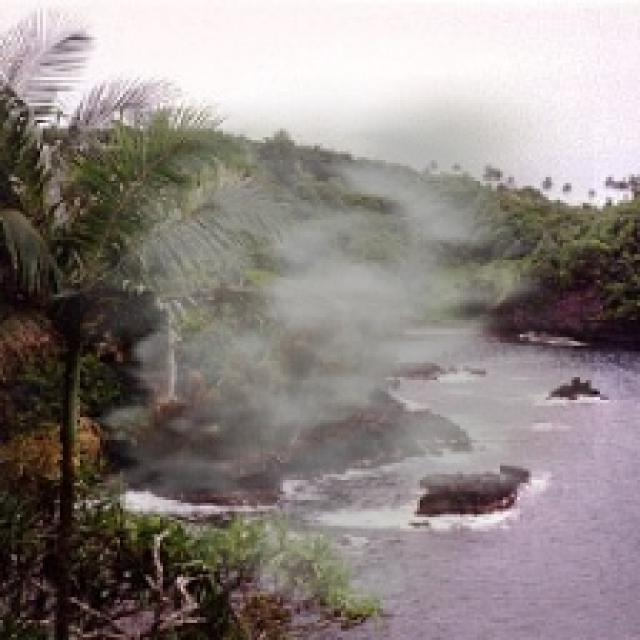smoke: (32, 74, 594, 609)
